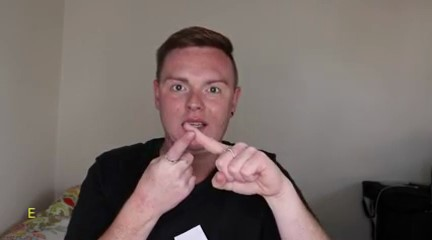E: (137, 118, 288, 215)
